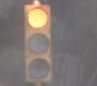Red: (19, 1, 63, 86)
